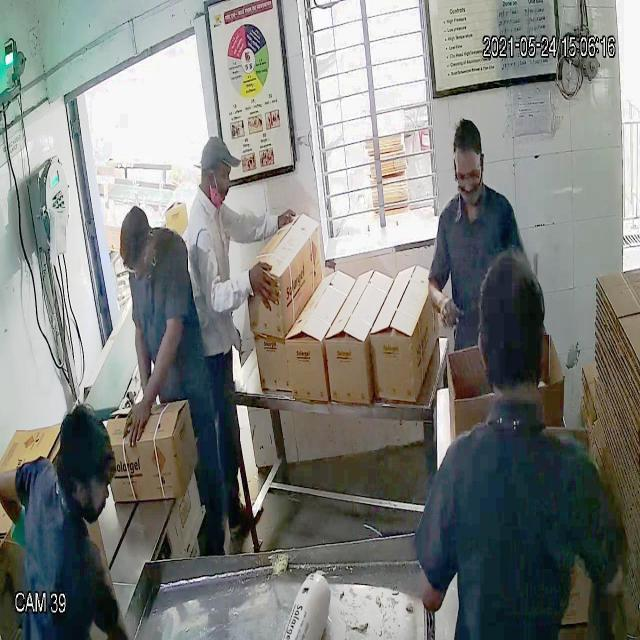glasses: (449, 152, 486, 184)
no-glass: (204, 164, 232, 192)
